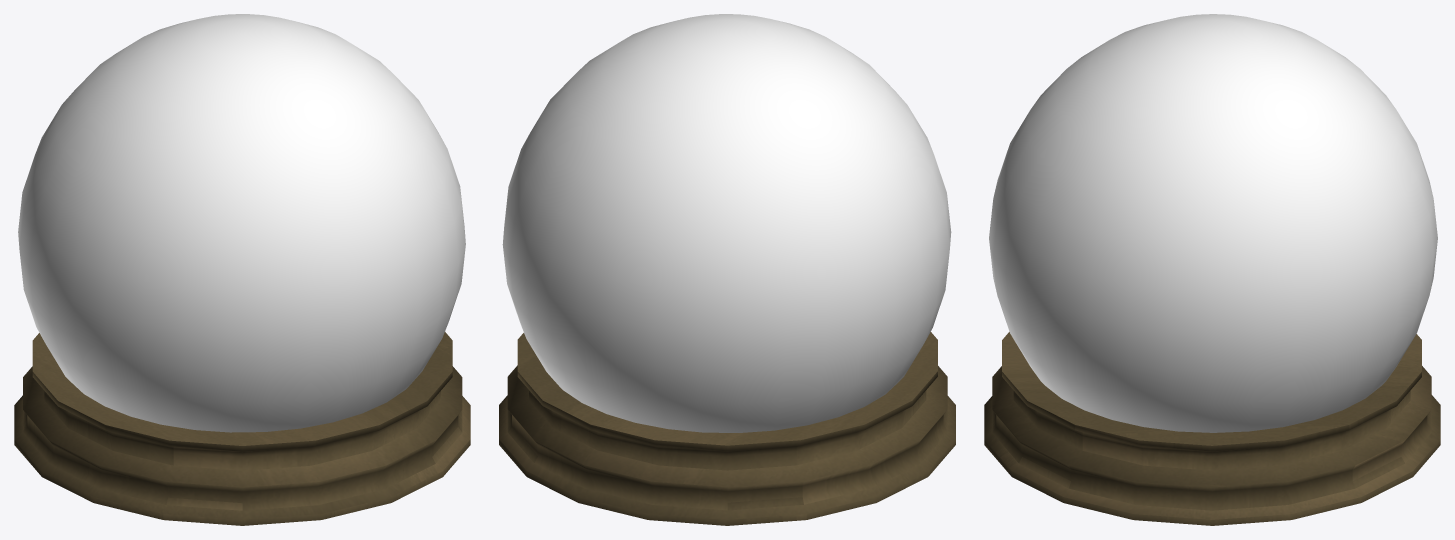
The model's file is snowglobeGrouped.fbx.
3 views of the same model, side by side, from view 1: azimuth 30°, elevation 25°; view 2: azimuth 150°, elevation 25°; view 3: azimuth 270°, elevation 25° (orthographic).
Parts seen in each view (by area): view 1: Sphere001, Cylinder001; view 2: Sphere001, Cylinder001; view 3: Sphere001, Cylinder001.
Part boxes in pixels (bbox=[...]): Sphere001: bbox=[18, 14, 465, 432]; Cylinder001: bbox=[14, 332, 470, 525]; Sphere001: bbox=[502, 14, 951, 432]; Cylinder001: bbox=[499, 332, 955, 525]; Sphere001: bbox=[989, 14, 1437, 432]; Cylinder001: bbox=[984, 332, 1440, 525].
Size of the model in its own units: 11.08 by 10.37 by 10.91.
